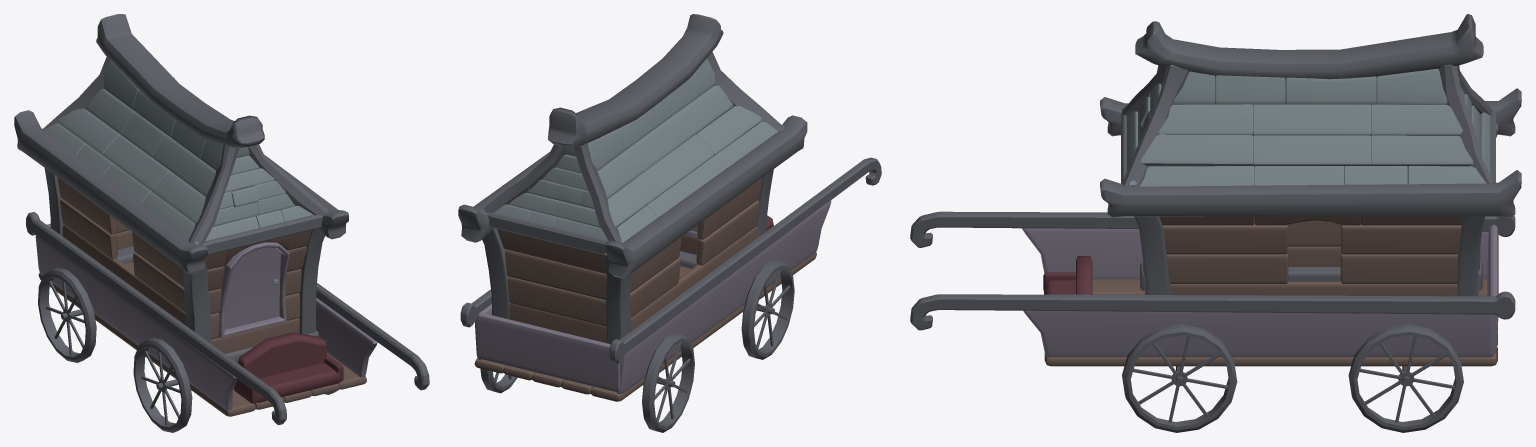
File: wagon.fbx
3 views of the same model, side by side, from view 1: azimuth 30°, elevation 25°; view 2: azimuth 150°, elevation 25°; view 3: azimuth 270°, elevation 25° (orthographic). The views are drawn at different scales.
Visible parts, largest first — view 1: pCube11, pCube16, plank98, door1, pCylinder1 (×2), pCube18, plank106, plank97, pCube17, plank67, pCube8, plank11 (+35 smaller); view 2: pCube11, pCube16, plank98, plank99, pCylinder1 (×3), pCube18, plank37, plank36, plank67, plank38, plank62, plank11 (+34 smaller); view 3: plank97, pCube10, pCube17, pCube16, pCylinder1 (×2), plank98, pCube18, plank104, plank64, plank5, plank47, plank2 (+31 smaller).
Boxes of the visible parts, left/top/right/bottom form: pCube11: left=14, top=110, right=207, bottom=273; pCube16: left=96, top=14, right=264, bottom=148; plank98: left=35, top=235, right=237, bottom=410; door1: left=219, top=242, right=289, bottom=337; pCylinder1 (×2): left=38, top=267, right=192, bottom=432; pCube18: left=26, top=212, right=286, bottom=425; plank106: left=238, top=332, right=326, bottom=378; plank97: left=316, top=297, right=377, bottom=377; pCube17: left=316, top=283, right=429, bottom=390; plank67: left=152, top=134, right=215, bottom=196; pCube8: left=201, top=215, right=322, bottom=255; plank11: left=62, top=224, right=186, bottom=325; pCube11: left=605, top=115, right=807, bottom=278; pCube16: left=547, top=14, right=723, bottom=147; plank98: left=617, top=200, right=831, bottom=393; plank99: left=477, top=312, right=620, bottom=392; pCylinder1 (×3): left=480, top=260, right=794, bottom=432; pCube18: left=609, top=157, right=881, bottom=363; plank37: left=505, top=249, right=606, bottom=299; plank36: left=507, top=276, right=606, bottom=326; plank67: left=661, top=85, right=733, bottom=148; plank38: left=497, top=229, right=606, bottom=273; plank62: left=644, top=134, right=714, bottom=192; plank11: left=631, top=226, right=758, bottom=331; plank97: left=1023, top=310, right=1495, bottom=357; pCube10: left=1100, top=170, right=1521, bottom=217; pCube17: left=910, top=291, right=1515, bottom=330; pCube16: left=1135, top=14, right=1483, bottom=79; pCylinder1 (×2): left=1122, top=324, right=1463, bottom=432; plank98: left=1022, top=228, right=1488, bottom=279; pCube18: left=910, top=211, right=1515, bottom=247; plank104: left=1044, top=347, right=1497, bottom=366; plank64: left=1253, top=104, right=1370, bottom=135; plank5: left=1162, top=223, right=1287, bottom=254; plank47: left=1253, top=135, right=1370, bottom=166; plank2: left=1169, top=281, right=1457, bottom=296.
Size of the model in its own units: 6.73 by 11.6 by 17.62.
